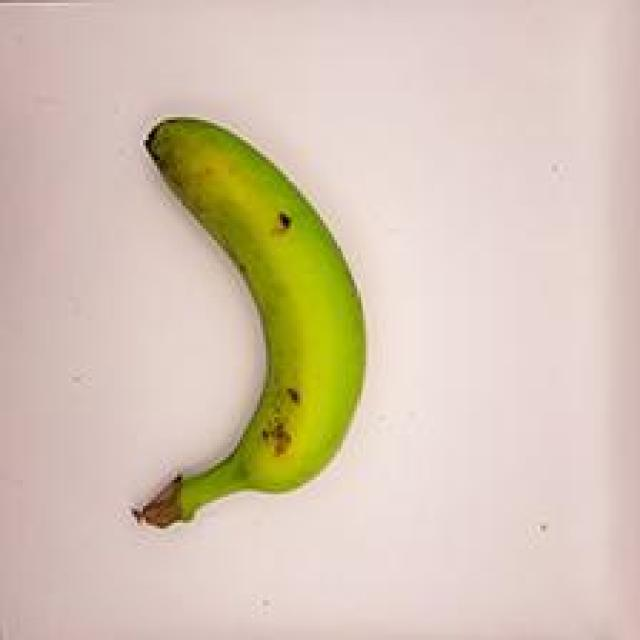Unripe: (112, 94, 380, 547)
